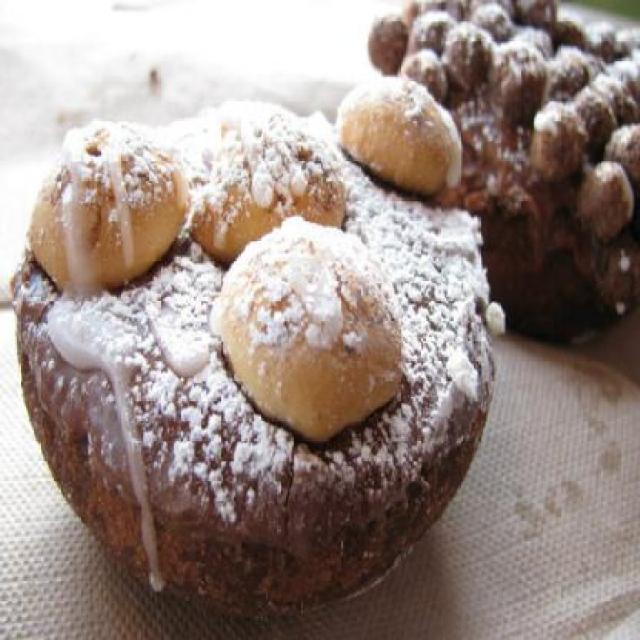Donuts: (35, 6, 640, 639)
